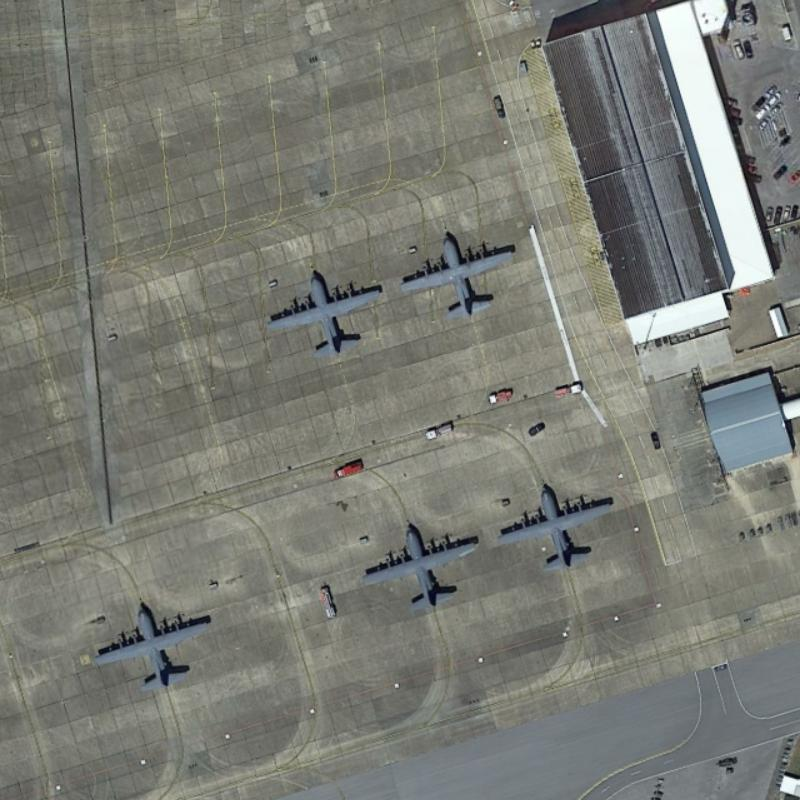A2: (356, 515, 481, 616), (87, 596, 212, 695), (495, 478, 616, 575), (260, 268, 387, 360), (394, 230, 517, 324)
